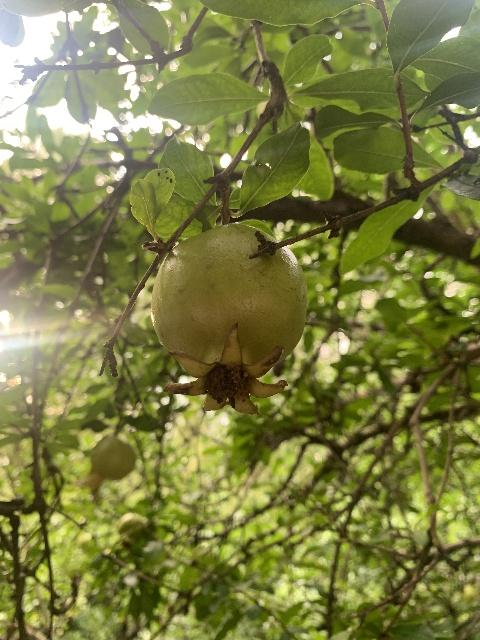mid-growth: (151, 224, 307, 414), (79, 435, 136, 494), (116, 512, 148, 549)
